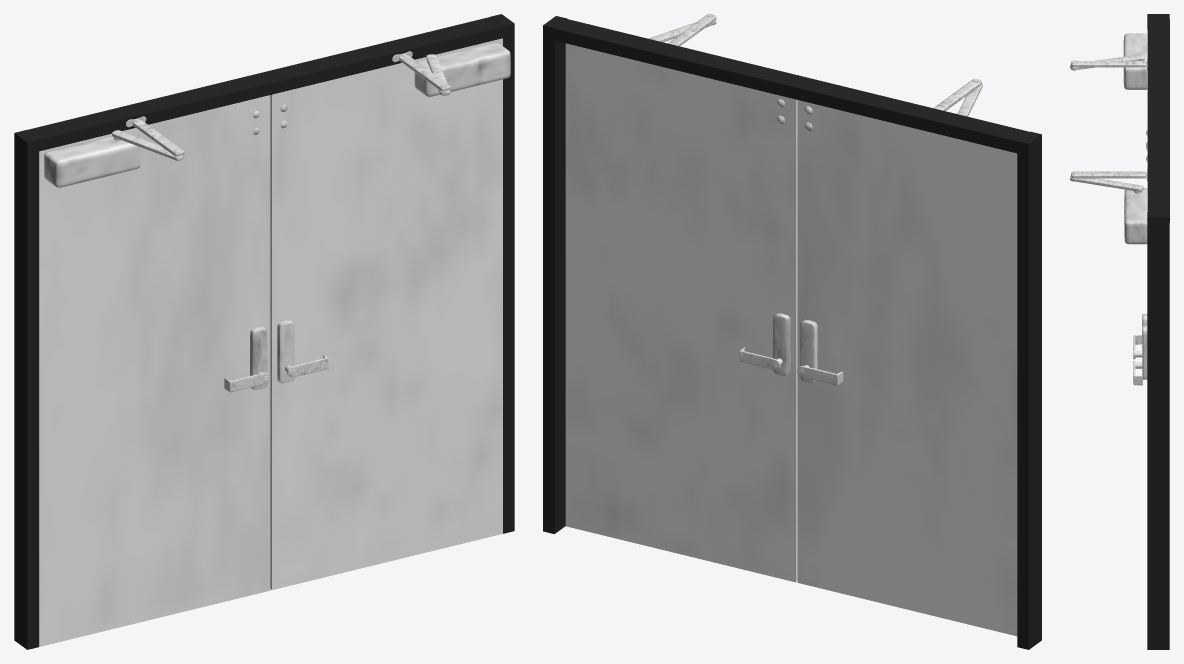
File: door shape stair door.fbx
The picture shows the model from 3 angles, left to right: view 1: azimuth 30°, elevation 25°; view 2: azimuth 150°, elevation 25°; view 3: azimuth 270°, elevation 25°; orthographic projection. The views are drawn at different scales.
Parts seen in each view (by area): view 1: Plane.001, Plane, Cube.001, Cube.004, Cube, Cube.002, Cube.003; view 2: Plane.001, Plane, Cube.001, Cube.005, Cube.006; view 3: Cube.001, Cube, Cube.004, Circle.005, Circle.010, Circle.006, Cube.002, Circle.011.
Part boxes in pixels (x1,y1,x2,y2): Plane.001: [270, 38, 502, 589]; Plane: [39, 95, 270, 646]; Cube.001: [14, 14, 514, 649]; Cube.004: [44, 136, 139, 187]; Cube: [414, 42, 510, 96]; Cube.002: [277, 320, 294, 383]; Cube.003: [250, 327, 267, 389]; Plane.001: [565, 43, 797, 582]; Plane: [797, 100, 1017, 636]; Cube.001: [543, 16, 1041, 649]; Cube.005: [773, 313, 790, 376]; Cube.006: [800, 319, 817, 382]; Cube.001: [1147, 14, 1169, 649]; Cube: [1124, 188, 1147, 244]; Cube.004: [1123, 33, 1147, 89]; Circle.005: [1071, 171, 1146, 178]; Circle.010: [1071, 60, 1146, 67]; Circle.006: [1070, 176, 1143, 193]; Cube.002: [1142, 325, 1147, 379]; Circle.011: [1070, 54, 1144, 70].
Size of the model in its own units: 686 by 683 by 143.
